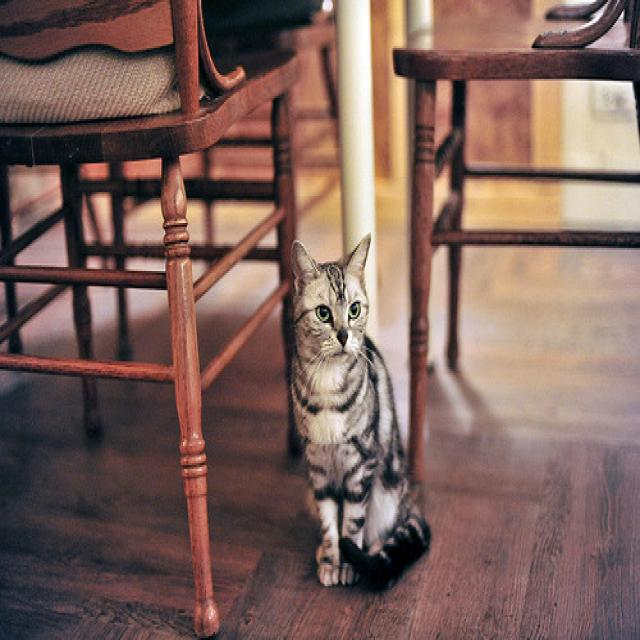cat: (275, 216, 445, 598)
